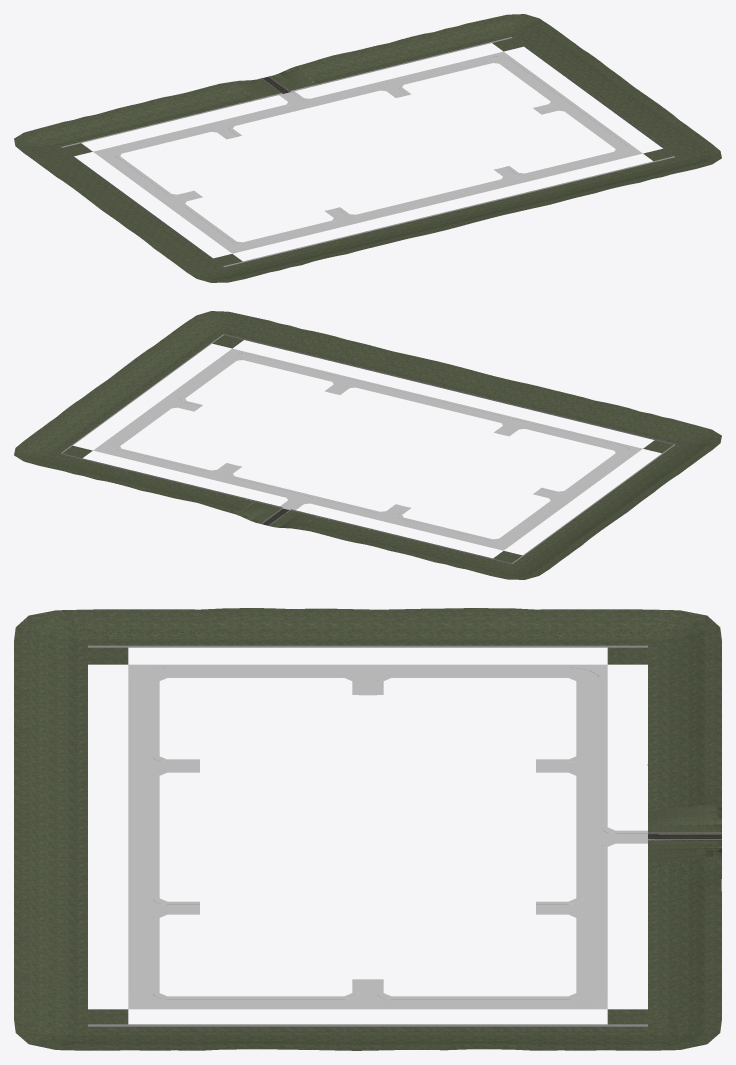
File: Border-Block-01-B.fbx
3 views of the same model, one above another, from view 1: azimuth 30°, elevation 25°; view 2: azimuth 150°, elevation 25°; view 3: azimuth 270°, elevation 25° (orthographic). The views are drawn at different scales.
Parts seen in each view (by area): view 1: BD-T, BD-B, BD-R, BD-L, BD-RT, BD-LT, BD-RB, BD-LB, BD-T-Sidewalk, BD-B-Sidewalk, BD-L-Sidewalk, BD-R-Sidewalk; view 2: BD-B, BD-T, BD-R, BD-L, BD-RB, BD-LB, BD-RT, BD-LT, BD-T-Sidewalk, BD-B-Sidewalk, BD-L-Sidewalk, BD-R-Sidewalk; view 3: BD-T, BD-B, BD-L, BD-R, BD-LB, BD-LT, BD-RT, BD-RB, BD-T-Sidewalk, BD-B-Sidewalk, BD-R-Sidewalk, BD-L-Sidewalk (+4 smaller).
Part boxes in pixels (bbox=[...]): BD-T: bbox=[96, 32, 473, 148]; BD-B: bbox=[261, 157, 639, 264]; BD-R: bbox=[512, 49, 679, 141]; BD-L: bbox=[57, 164, 223, 248]; BD-RT: bbox=[434, 14, 581, 69]; BD-LT: bbox=[14, 114, 135, 176]; BD-RB: bbox=[600, 120, 721, 182]; BD-LB: bbox=[154, 235, 301, 282]; BD-T-Sidewalk: bbox=[129, 60, 475, 149]; BD-B-Sidewalk: bbox=[260, 155, 606, 244]; BD-L-Sidewalk: bbox=[114, 163, 226, 238]; BD-R-Sidewalk: bbox=[509, 67, 621, 141]; BD-B: bbox=[262, 329, 639, 445]; BD-T: bbox=[96, 454, 474, 561]; BD-R: bbox=[56, 346, 223, 438]; BD-L: bbox=[512, 461, 678, 545]; BD-RB: bbox=[154, 311, 301, 366]; BD-LB: bbox=[600, 411, 721, 473]; BD-RT: bbox=[14, 417, 135, 479]; BD-LT: bbox=[434, 532, 581, 579]; BD-T-Sidewalk: bbox=[129, 452, 475, 541]; BD-B-Sidewalk: bbox=[260, 357, 606, 446]; BD-L-Sidewalk: bbox=[509, 460, 621, 535]; BD-R-Sidewalk: bbox=[114, 364, 226, 438]; BD-T: bbox=[536, 688, 721, 979]; BD-B: bbox=[14, 688, 199, 979]; BD-L: bbox=[200, 608, 535, 695]; BD-R: bbox=[200, 979, 535, 1050]; BD-LB: bbox=[14, 609, 199, 695]; BD-LT: bbox=[536, 609, 721, 695]; BD-RT: bbox=[536, 972, 721, 1050]; BD-RB: bbox=[14, 972, 199, 1050]; BD-T-Sidewalk: bbox=[536, 695, 647, 979]; BD-B-Sidewalk: bbox=[128, 695, 199, 979]; BD-R-Sidewalk: bbox=[200, 979, 535, 1009]; BD-L-Sidewalk: bbox=[200, 664, 535, 694].
Size of what is drawn, in the model's own units: 932 by 9.47 by 632.
